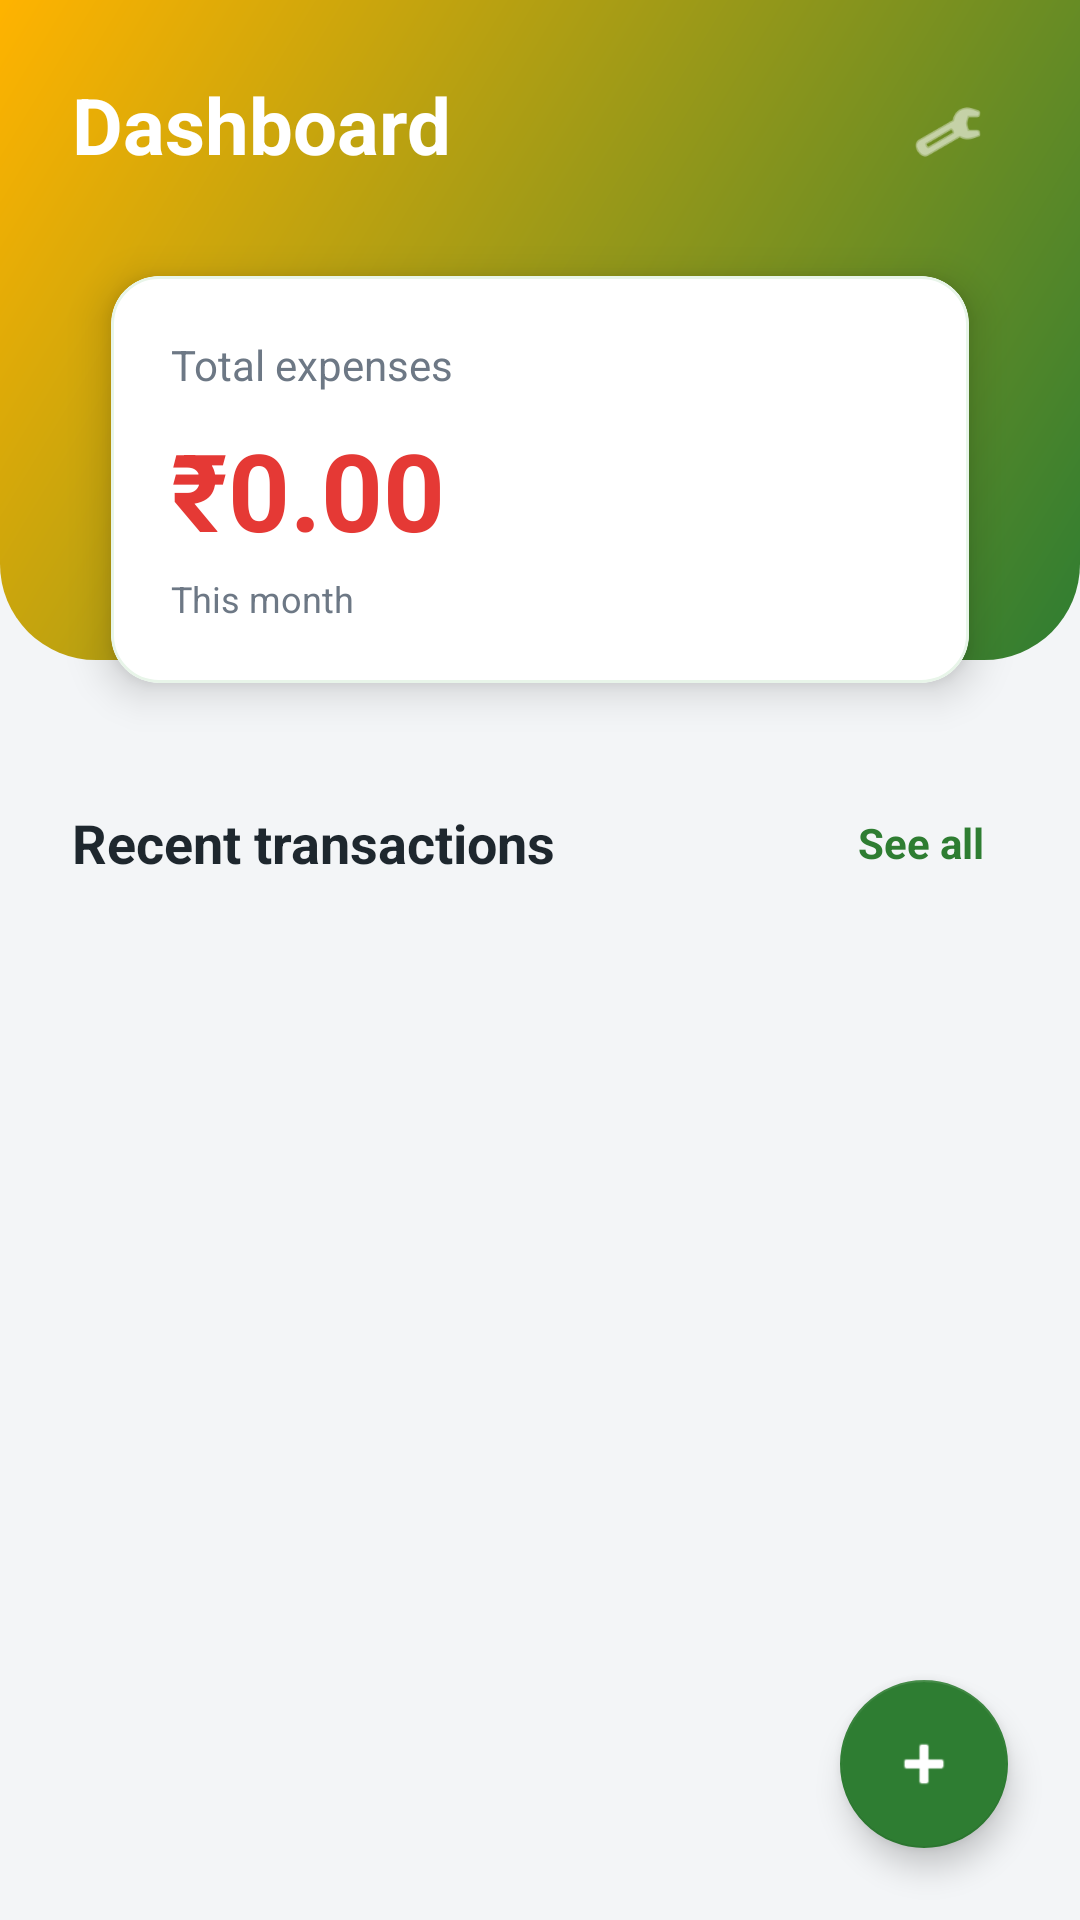

Named icons in this screenshot (1080 x 1920) and their centers, point (x, y):
Add Expense: point (924, 1764)
preferences: point (947, 132)
